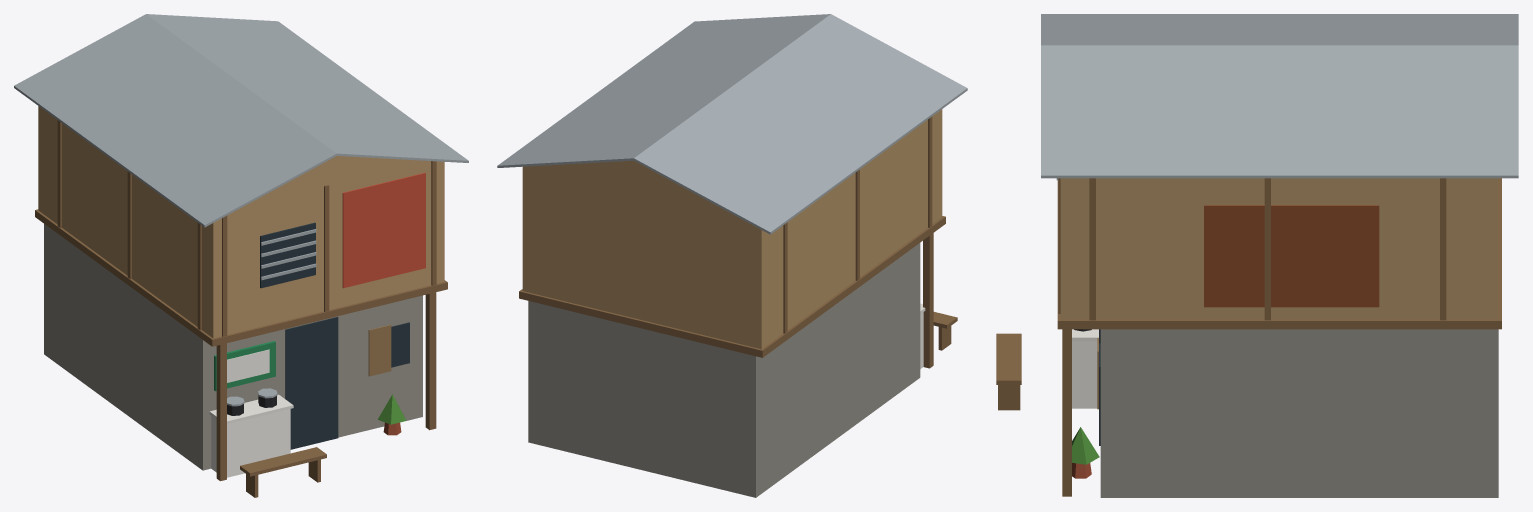
File: BAY_I_Shanty2F_C.glb
The picture shows the model from 3 angles, left to right: view 1: azimuth 30°, elevation 25°; view 2: azimuth 150°, elevation 25°; view 3: azimuth 270°, elevation 25°; orthographic projection. The views are drawn at different scales.
Parts seen in each view (by area): view 1: BAY_I_Shanty2F_C; view 2: BAY_I_Shanty2F_C; view 3: BAY_I_Shanty2F_C.
Part boxes in pixels (x1,y1,x2,y2): BAY_I_Shanty2F_C: (14,14,468,497); BAY_I_Shanty2F_C: (497,14,967,497); BAY_I_Shanty2F_C: (996,14,1518,497).
Size of the model in its own units: 4.8 by 5.34 by 6.56.
1 material, 1 textured.
